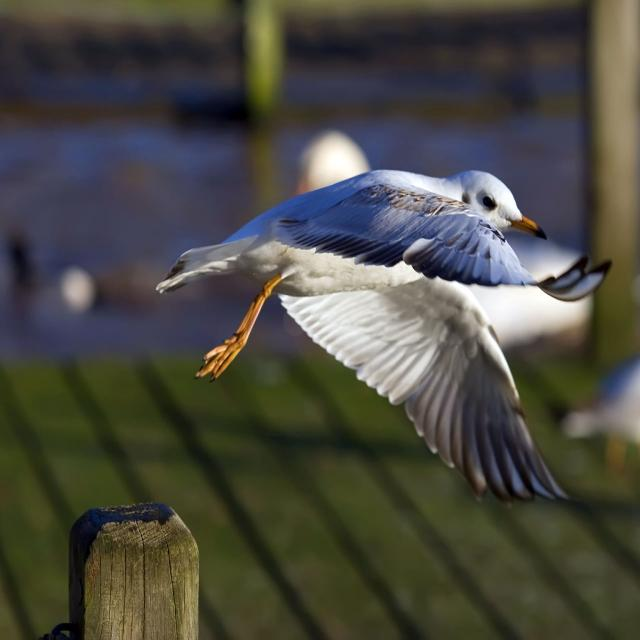bird: (146, 150, 616, 526)
